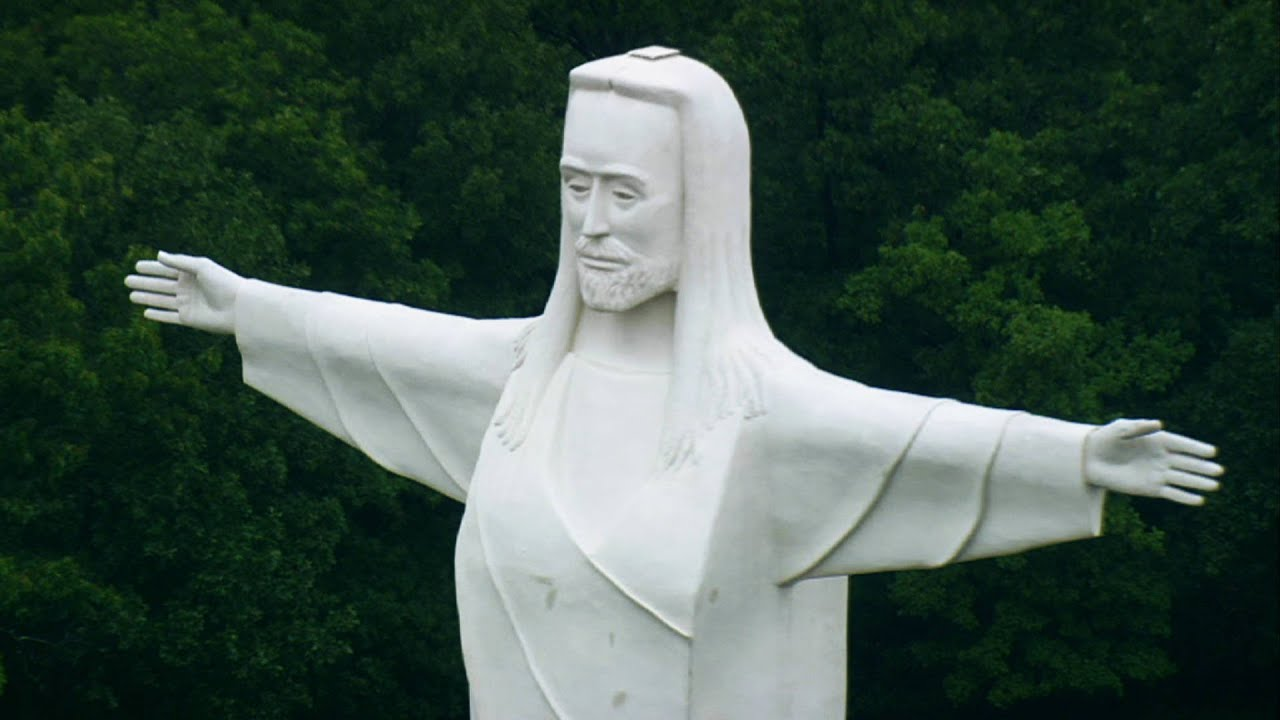person-like: (119, 37, 1232, 720)
